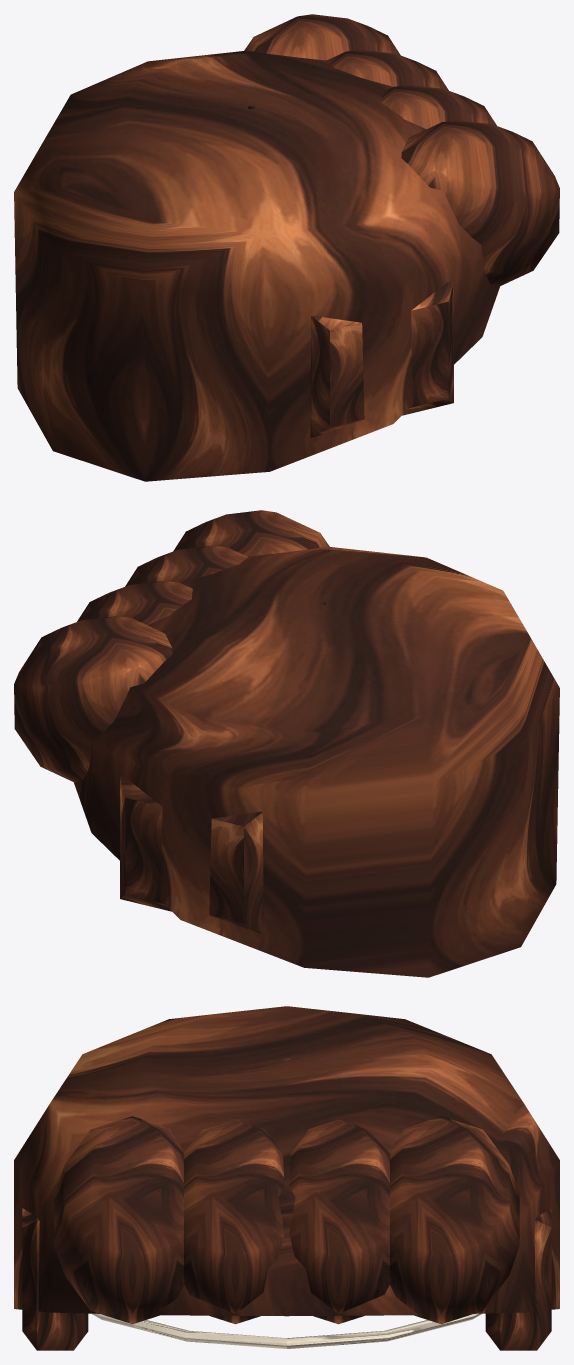
3 renders of one model, top to bottom at view 1: azimuth 30°, elevation 25°; view 2: azimuth 150°, elevation 25°; view 3: azimuth 270°, elevation 25°, orthographic. The views are drawn at different scales.
Visible parts, largest first — view 1: head; view 2: head; view 3: head.
Boxes of the visible parts, x1,y1,x2,y2 form: head: (14, 14, 559, 481); head: (14, 510, 559, 977); head: (14, 1006, 559, 1350).
Bounding box in the file's own units: 0.3645 × 0.2386 × 0.3723.
2 materials, 2 textured.
